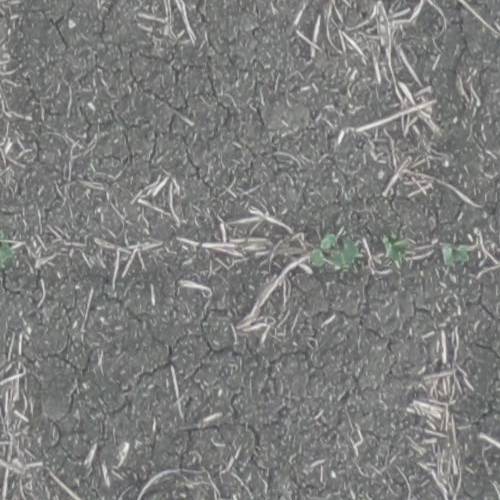plant: (311, 233, 357, 267), (382, 234, 408, 264), (442, 243, 471, 268), (0, 230, 12, 264)
